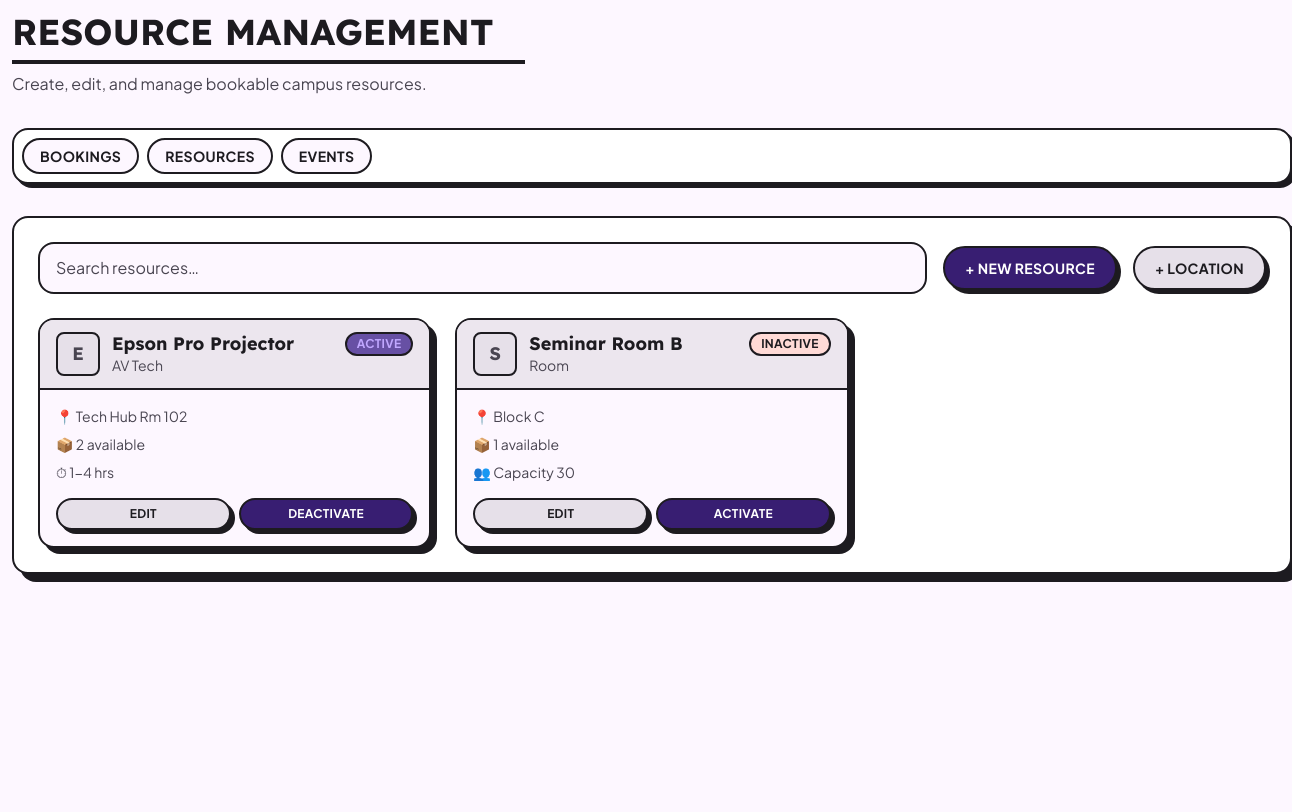
Test: AdminResourcesPage › adds a location
Click the button "+ Location": (1199, 268) [1133,246,1266,290]
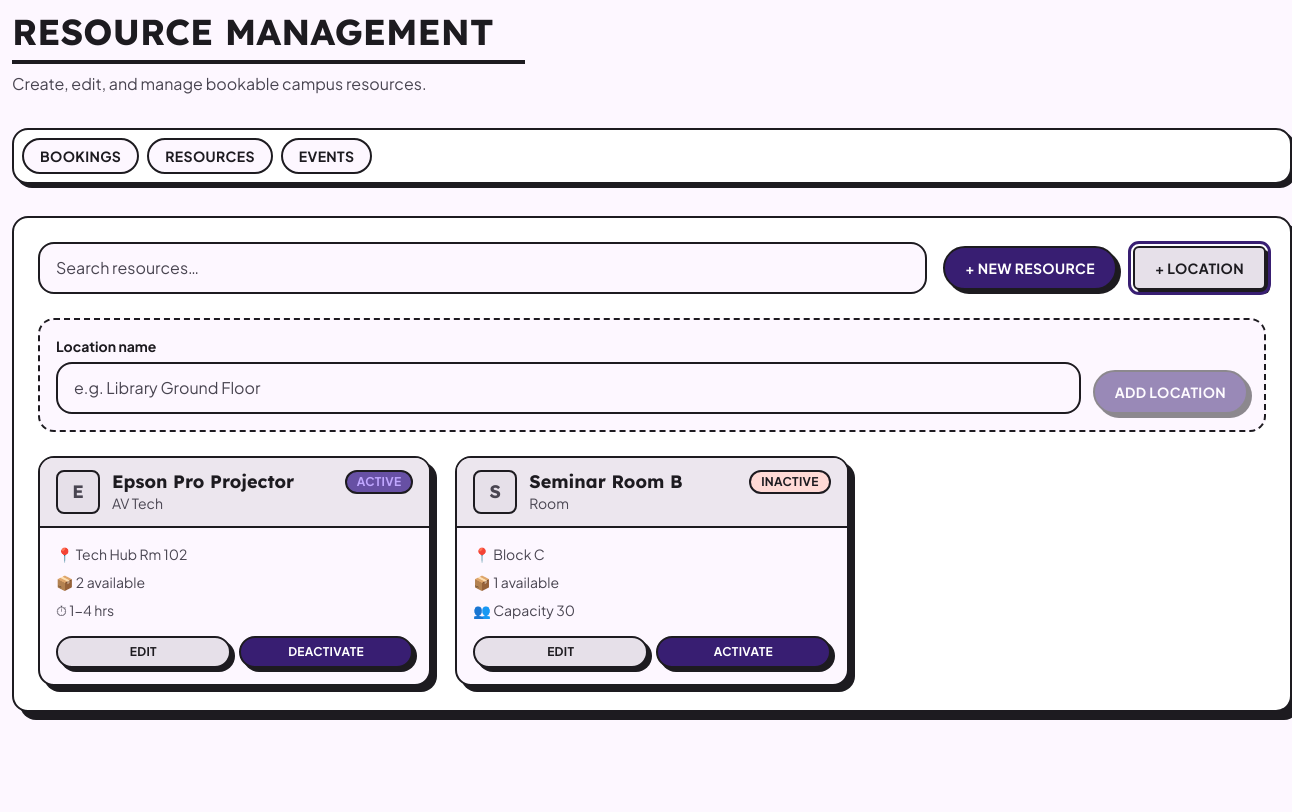
In the field labelled "Location name": (568, 388) [56,362,1081,414], type "Library Ground Floor"
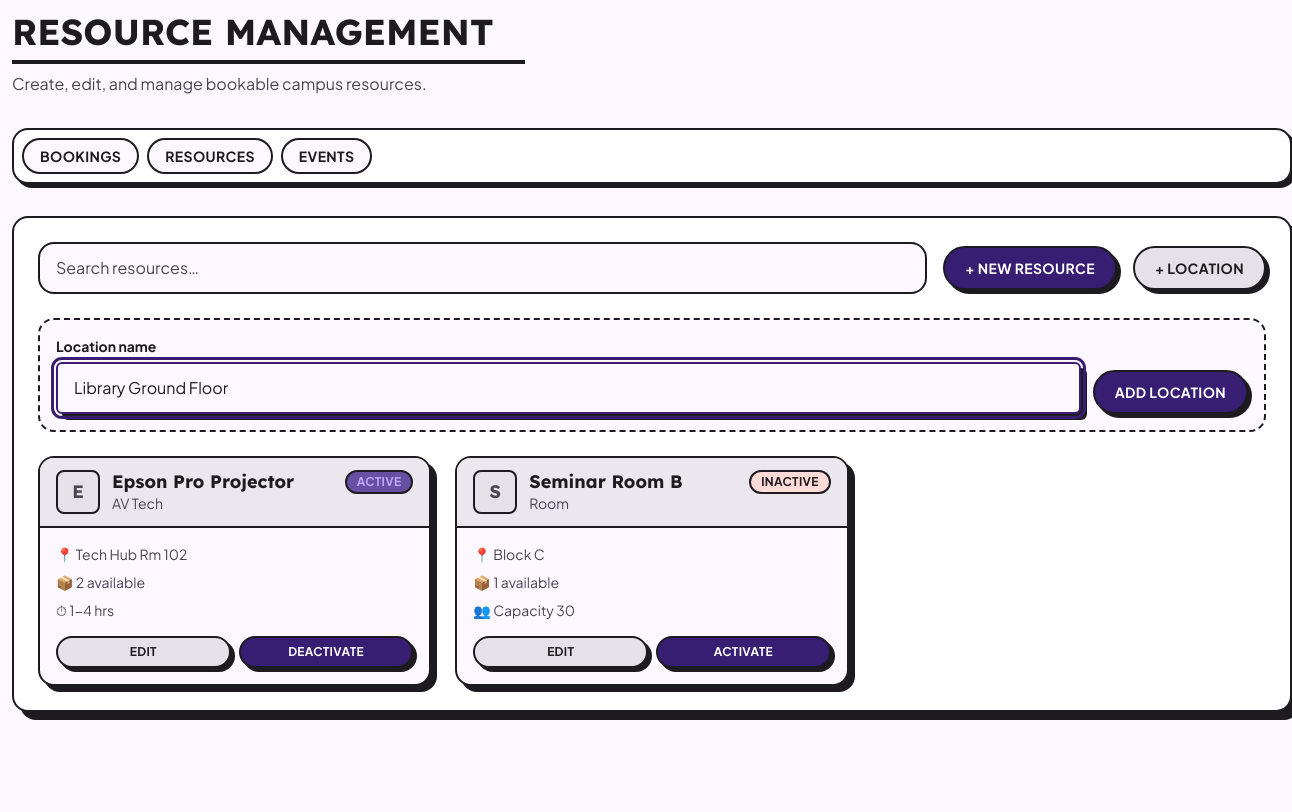
Click the button "Add Location": (1170, 392) [1093,370,1248,414]
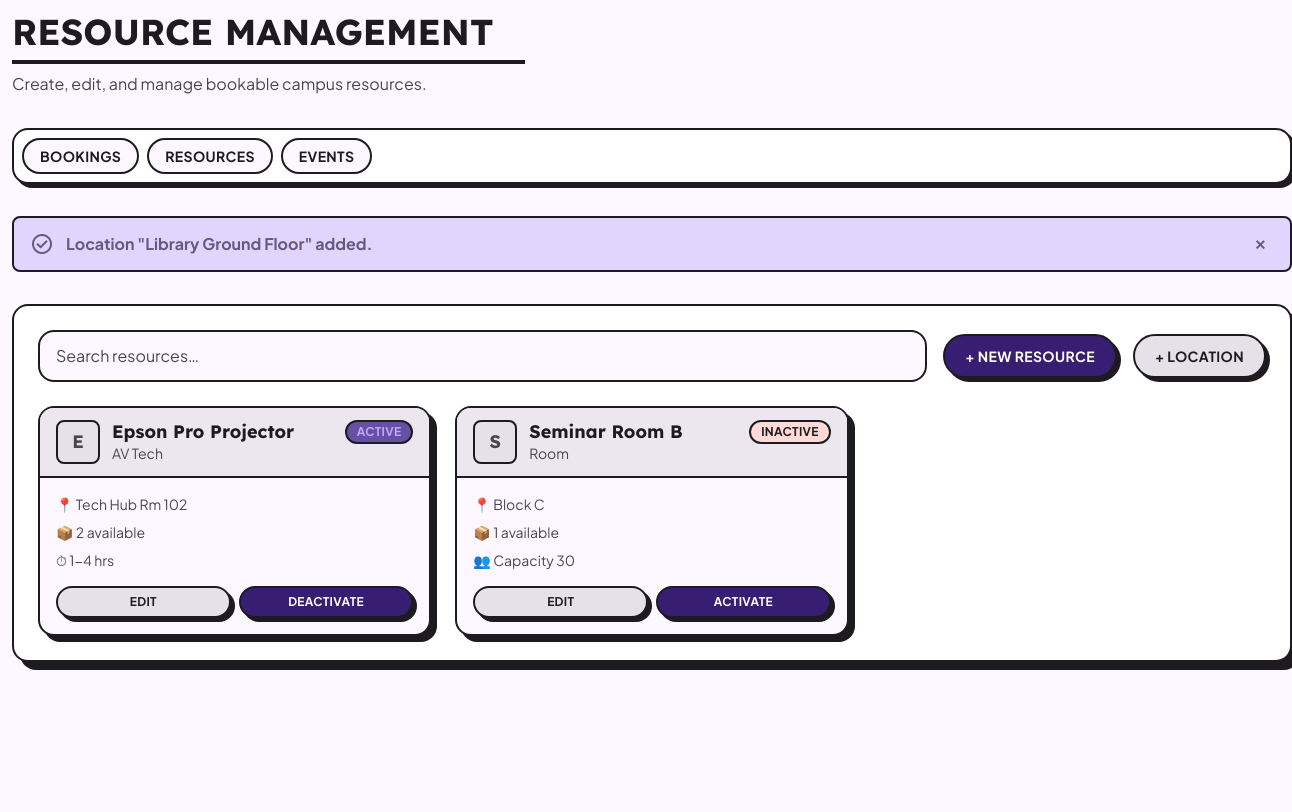
Expected: the text "Location \"Library Ground Floor\" added." is shown, [66,232,373,256]
